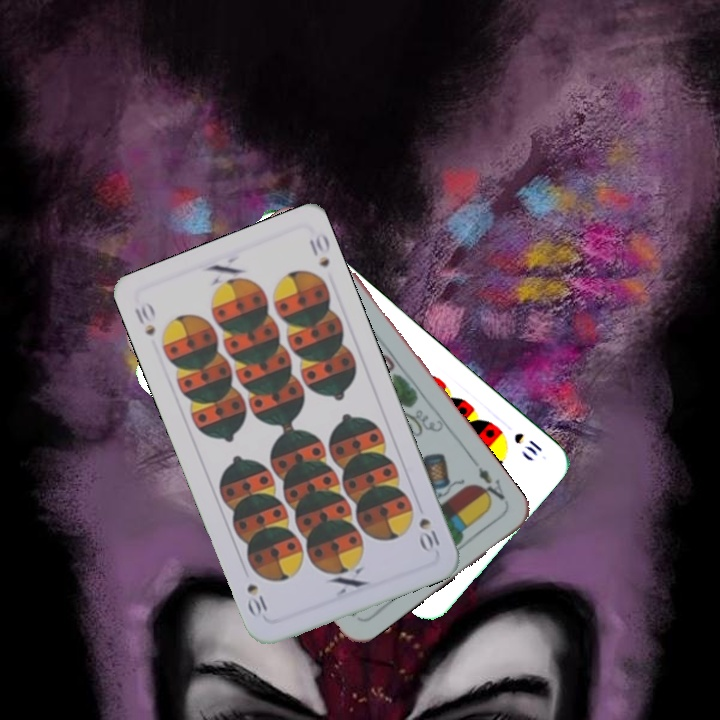EA: (469, 456, 508, 507)
S10: (414, 514, 442, 555), (130, 298, 158, 339), (510, 428, 545, 459)
